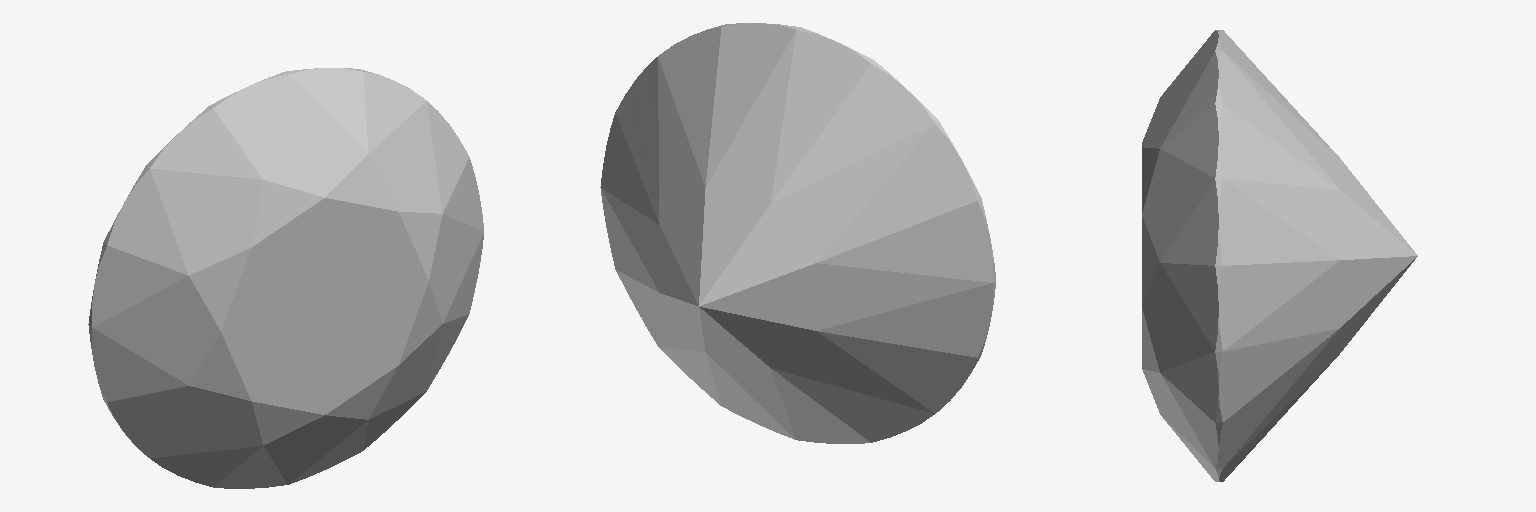
Rendered from brilliant_diamond.obj.
The picture shows the model from 3 angles: view 1: azimuth 30°, elevation 25°; view 2: azimuth 150°, elevation 25°; view 3: azimuth 270°, elevation 25°; orthographic projection.
Parts seen in each view (by area): view 1: dobj_dmesh; view 2: dobj_dmesh; view 3: dobj_dmesh.
Part boxes in pixels (x1,y1,x2,y2): dobj_dmesh: (88, 68, 483, 488); dobj_dmesh: (600, 23, 995, 443); dobj_dmesh: (1142, 30, 1417, 481).
Size of the model in its own units: 2 by 2 by 1.22.